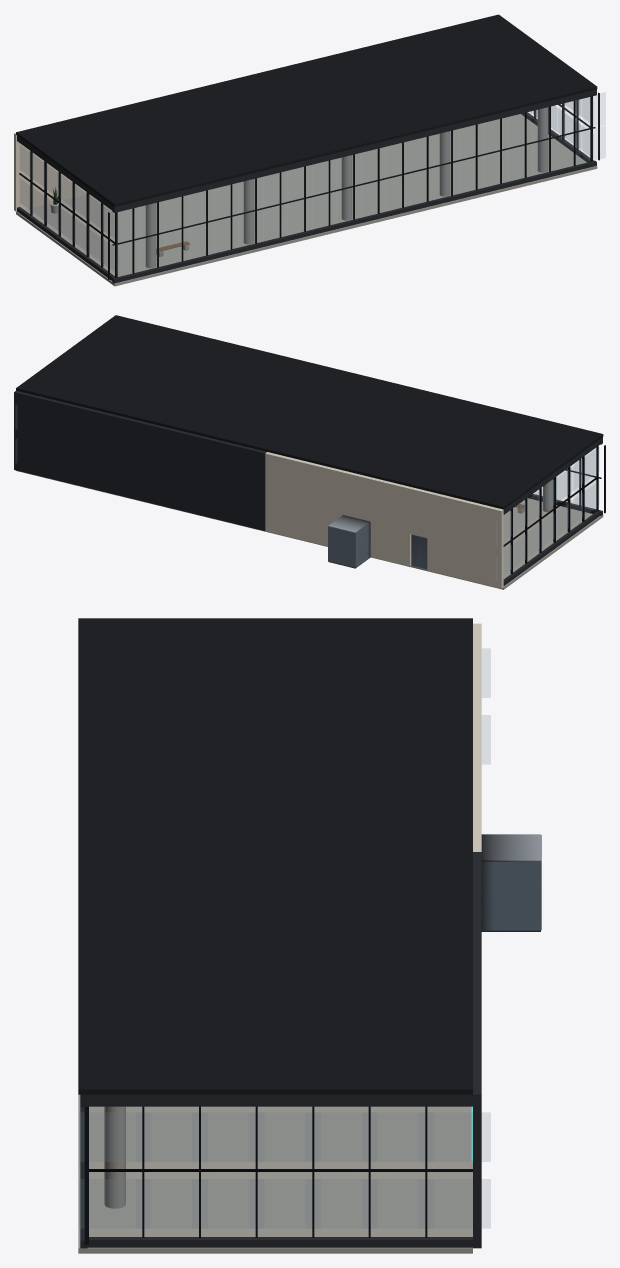
Rendered from floor.glb.
3 renders of one model, top to bottom at view 1: azimuth 30°, elevation 25°; view 2: azimuth 150°, elevation 25°; view 3: azimuth 270°, elevation 25°, orthographic. The views are drawn at different scales.
Parts seen in each view (by area): view 1: shell.ceiling, glazing.glass_clear, shell.floor_conc, shell.wall_dark, fit.darkmetal, shell.concrete, shell.stone_wall; view 2: shell.ceiling, shell.wall_dark, shell.stone_wall, glazing.glass_clear, shell.floor_conc, fit.darkmetal, lift_cabin.steel, fit.steel, lift_cabin.white; view 3: shell.ceiling, shell.floor_conc, glazing.glass_clear, shell.wall_dark, lift_cabin.steel, fit.darkmetal, shell.concrete, shell.stone_wall, lift_cabin.white.
Part boxes in pixels (x1,y1,x2,y2): shell.ceiling: [16, 14, 597, 206]; glazing.glass_clear: [20, 92, 605, 276]; shell.floor_conc: [16, 114, 597, 286]; shell.wall_dark: [17, 89, 596, 283]; fit.darkmetal: [19, 92, 599, 279]; shell.concrete: [145, 107, 548, 268]; shell.stone_wall: [14, 133, 86, 211]; shell.ceiling: [16, 315, 603, 509]; shell.wall_dark: [14, 390, 602, 585]; shell.stone_wall: [265, 452, 503, 588]; glazing.glass_clear: [16, 405, 596, 580]; shell.floor_conc: [16, 470, 603, 589]; fit.darkmetal: [503, 445, 605, 574]; lift_cabin.steel: [328, 522, 370, 567]; fit.steel: [411, 534, 427, 569]; lift_cabin.white: [328, 515, 369, 532]; shell.ceiling: [78, 618, 472, 1094]; shell.floor_conc: [78, 1094, 472, 1253]; glazing.glass_clear: [79, 649, 490, 1228]; shell.wall_dark: [80, 852, 481, 1248]; lift_cabin.steel: [481, 835, 541, 930]; fit.darkmetal: [84, 1106, 472, 1244]; shell.concrete: [104, 1106, 125, 1208]; shell.stone_wall: [473, 623, 481, 851]; lift_cabin.white: [481, 834, 540, 861].
Bounding box in the file's own units: 40.6 × 6.4 × 16.38.
